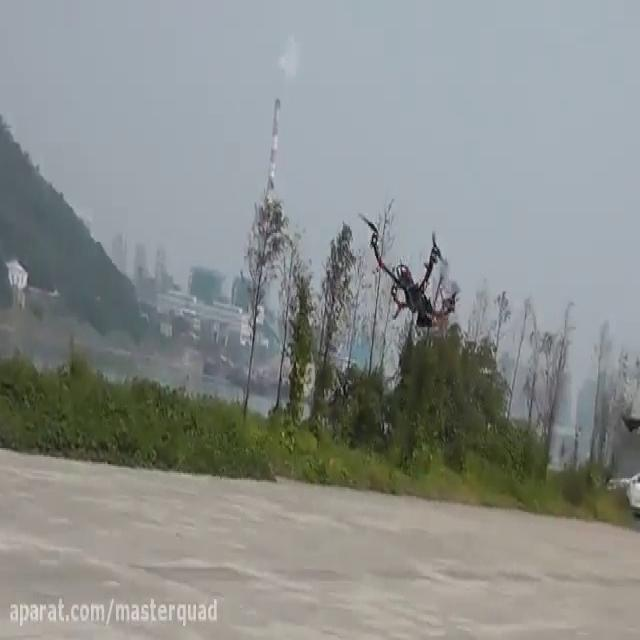drone: (356, 212, 461, 331)
